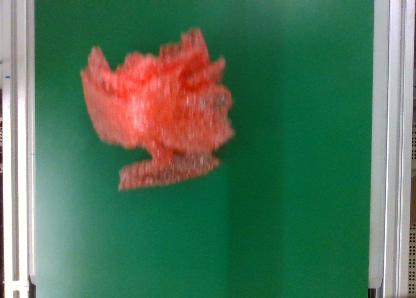Others: (73, 28, 235, 196)
